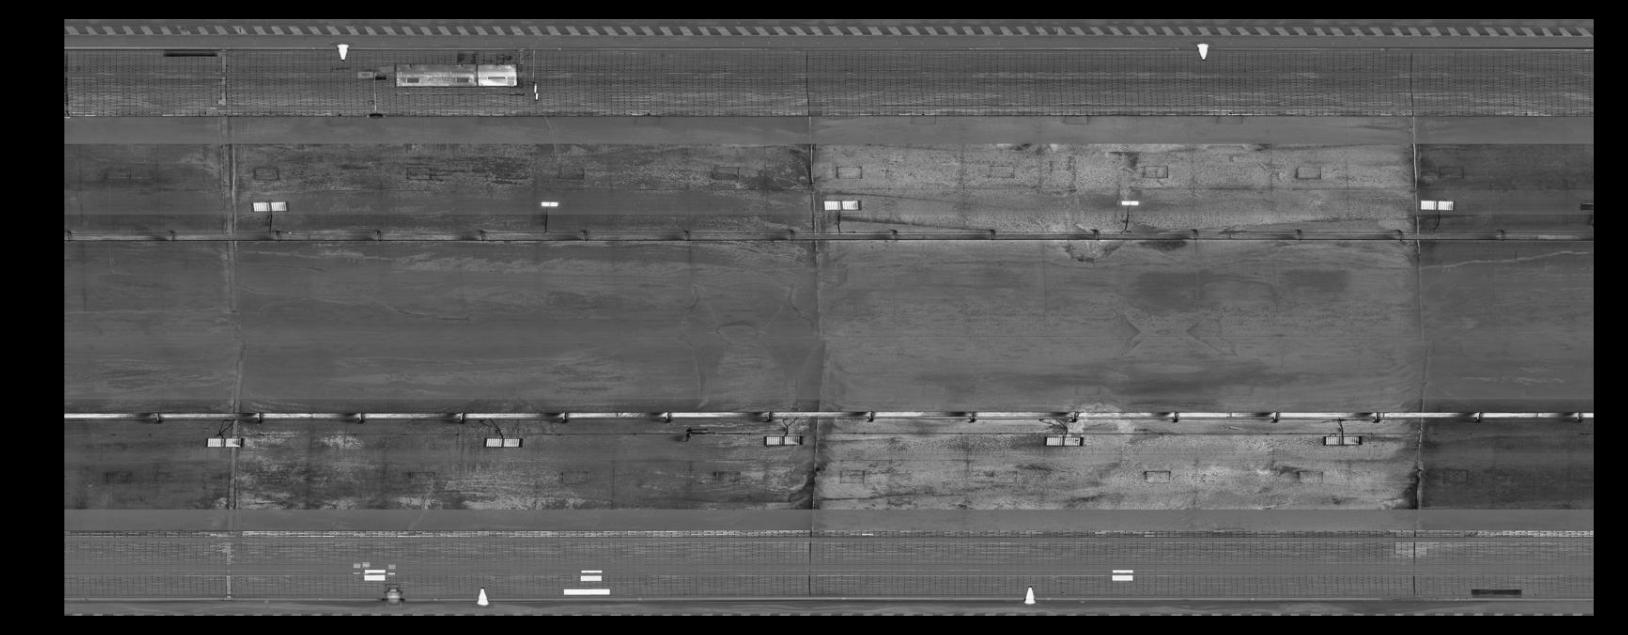light: (1319, 431, 1367, 449), (479, 434, 527, 452), (1042, 433, 1090, 451), (760, 431, 808, 449), (202, 434, 247, 450), (248, 198, 293, 214), (1417, 195, 1460, 211), (820, 196, 862, 212), (1114, 198, 1144, 208), (534, 199, 564, 209)
